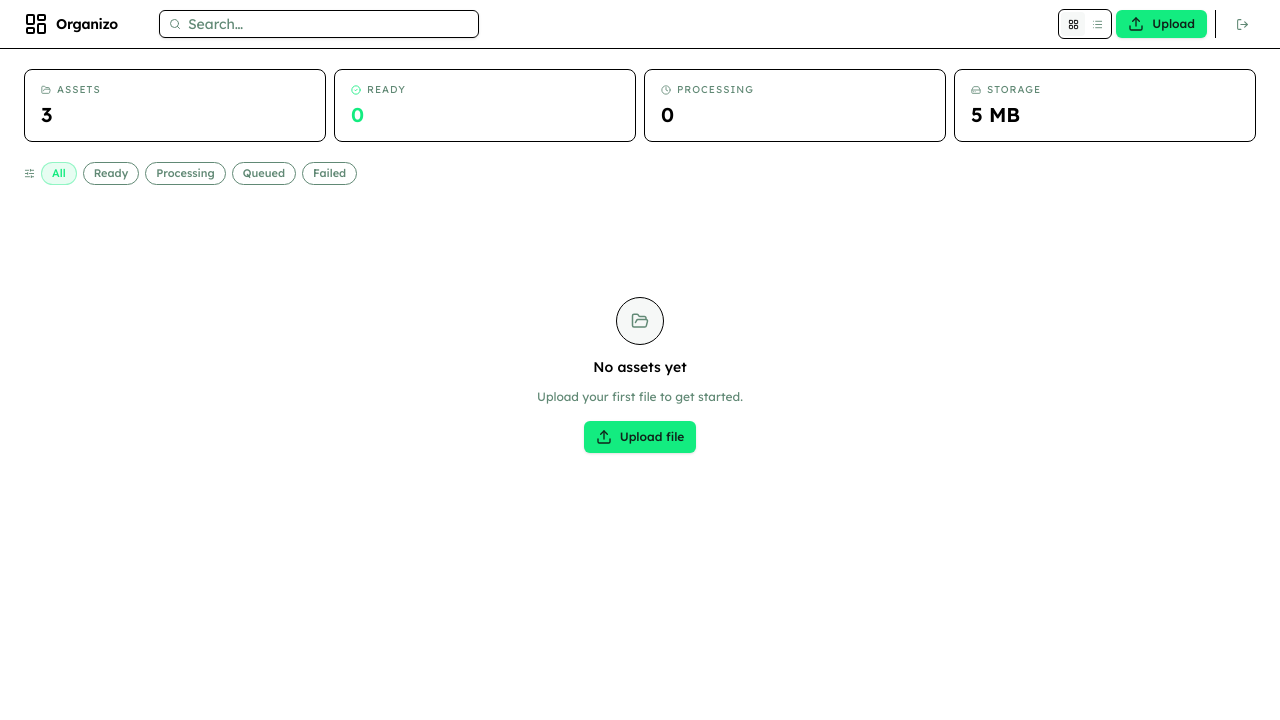
it: Dashboard › upload modal › opens the upload modal when 'Upload file' in the empty state is clicked
Click the button "Upload file" at (640, 436), box [584, 420, 696, 452]
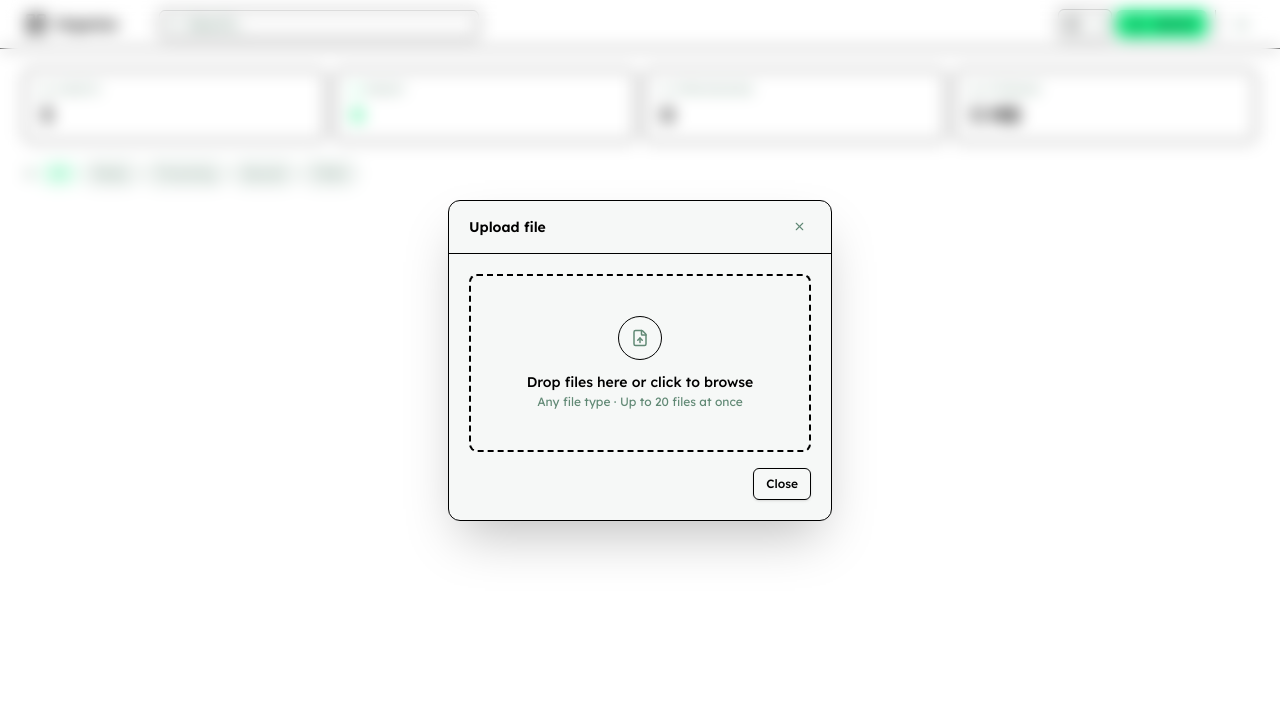
Now the heading "Upload file" is shown, box [469, 216, 546, 236]
